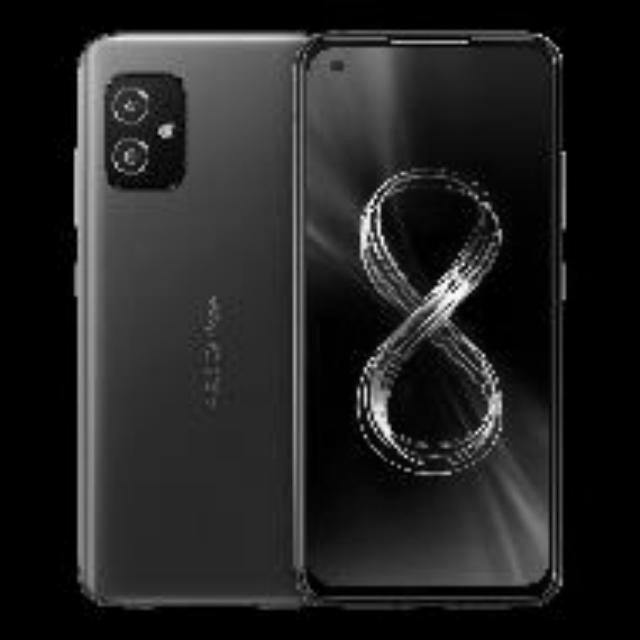fake: (292, 26, 600, 598), (78, 24, 312, 608)
